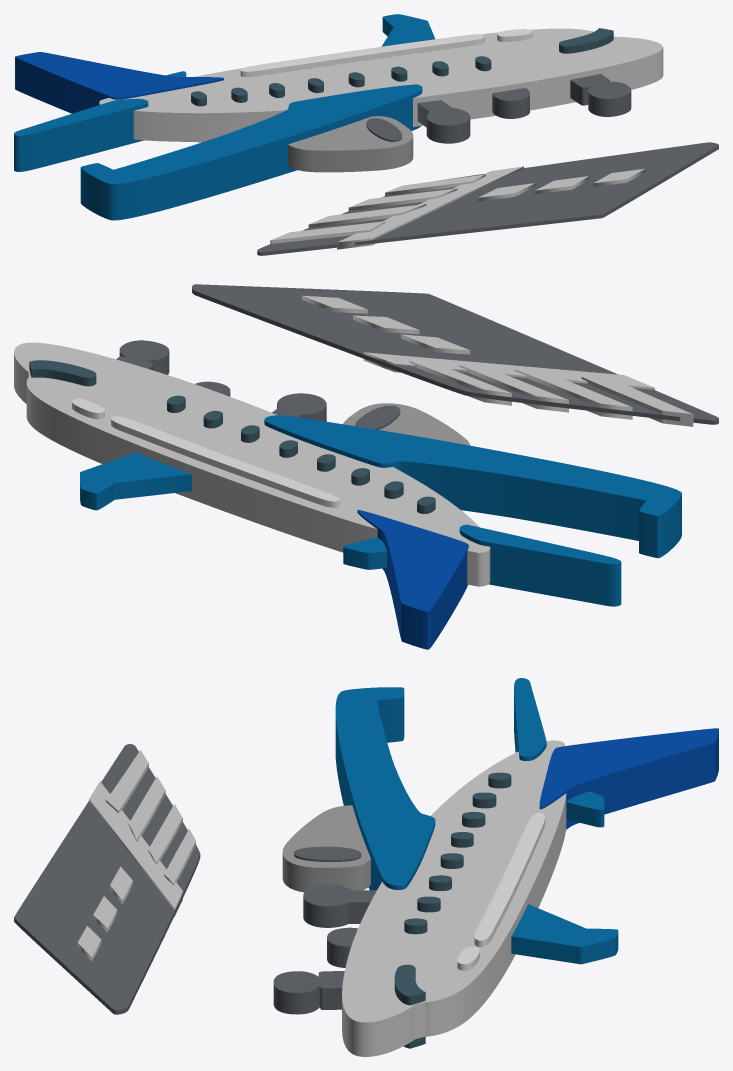
File: emoji_u1f6ec.glb
3 renders of one model, top to bottom at view 1: azimuth 30°, elevation 25°; view 2: azimuth 150°, elevation 25°; view 3: azimuth 270°, elevation 25°, orthographic. The views are drawn at different scales.
Parts seen in each view (by area): view 1: emoji_u1f6ec; view 2: emoji_u1f6ec; view 3: emoji_u1f6ec.
Part boxes in pixels (<box>): emoji_u1f6ec: <box>14,14,718,255</box>; emoji_u1f6ec: <box>14,284,718,649</box>; emoji_u1f6ec: <box>14,678,718,1056</box>.
Size of the model in its own units: 0.0338 by 0.0024 by 0.0296.
